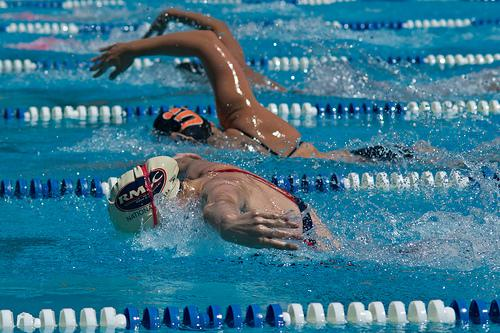human: (93, 23, 352, 163), (106, 140, 331, 259)
